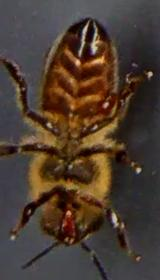varroa_mite: (94, 81, 125, 121)
